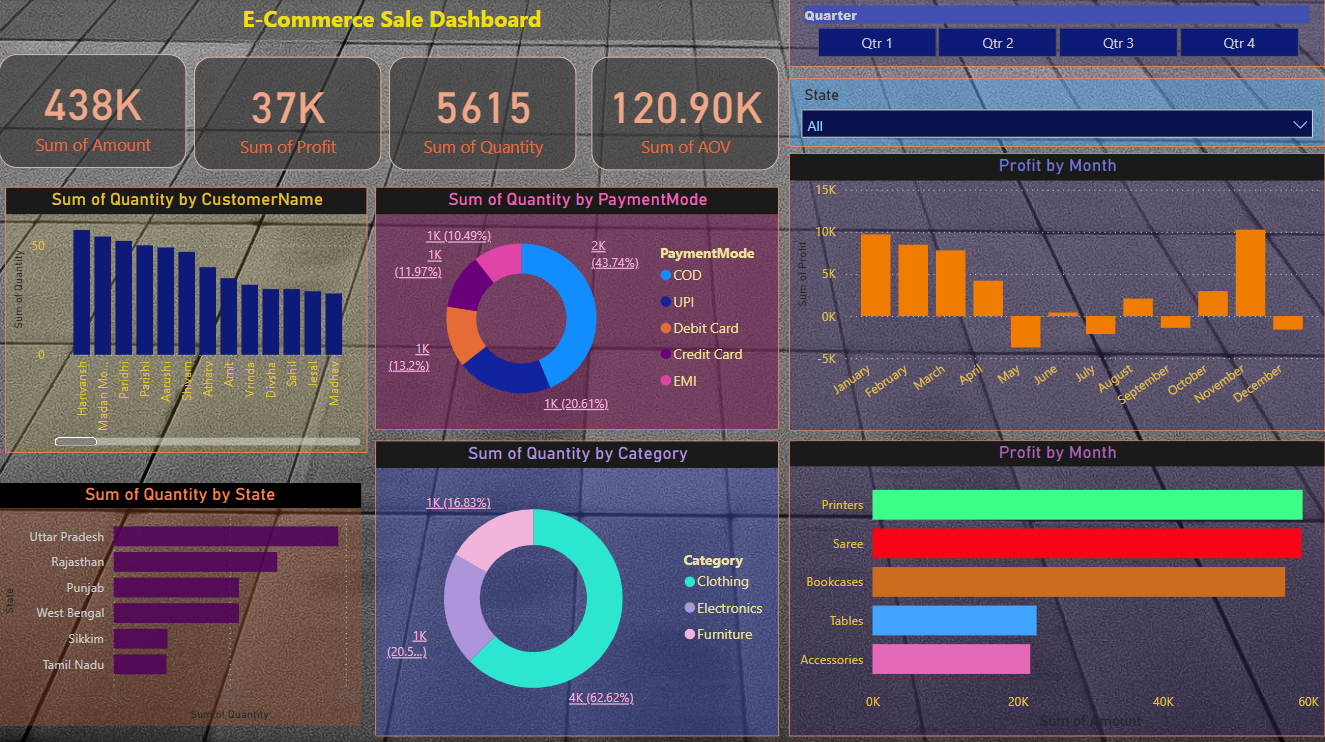

This screenshot's page, from the dashboard's own definition file:
{"tool":"powerbi","page":{"name":"Page 1","canvas":[1280,720],"ordinal":0},"visuals":[{"type":"textbox","box":[0,0,752.8,41],"z":0},{"type":"columnChart","title":"Profit by Month","fields":{"Category":["Orders.Order Date.Variation.Date Hierarchy.Month"],"Y":["Details.Profit"]},"box":[762.5,149.6,517.6,267.8],"z":1000},{"type":"barChart","title":"Profit by Month","fields":{"Category":["Details.Sub-Category"],"Y":["Details.Amount"]},"box":[763,426.8,517.3,285.4],"z":2000},{"type":"donutChart","fields":{"Category":["Details.Category"],"Y":["Details.Quantity"]},"box":[363.6,426.8,389.7,285.4],"z":3000},{"type":"donutChart","fields":{"Category":["Details.PaymentMode"],"Y":["Details.Quantity"]},"box":[363.6,182.5,389.7,234.6],"z":4000},{"type":"card","fields":{"Values":["Details.Amount"]},"box":[0,54.9,181,109.8],"z":5000},{"type":"card","fields":{"Values":["Details.Quantity"]},"box":[376,56.3,181.1,109.8],"z":6000},{"type":"card","fields":{"Values":["Details.AOV"]},"box":[572.2,56.3,181.1,109.8],"z":7000},{"type":"card","fields":{"Values":["Details.Profit"]},"box":[188,56.3,181.1,109.8],"z":8000},{"type":"clusteredColumnChart","fields":{"Category":["Orders.CustomerName"],"Y":["Details.Quantity"]},"box":[6,182.2,349.9,257],"z":8001},{"type":"barChart","fields":{"Category":["Orders.State"],"Y":["Details.Quantity"]},"box":[0,468.1,349.9,234],"z":8002},{"type":"slicer","fields":{"Values":["Orders.State"]},"box":[762.5,77.2,517.6,66.4],"z":8003},{"type":"slicer","fields":{"Values":["Orders.Order Date.Variation.Date Hierarchy.Quarter"]},"box":[762.5,0,517.6,66.4],"z":8004}]}

Visuals, with their boxes in screenshot pixels (x1, y1, x2, y2), scaled from the page's 1280x720 canvas onto the 1325x742 screenshot:
textbox: [x1=0, y1=0, x2=779, y2=42]
"Profit by Month" columnChart: [x1=789, y1=154, x2=1324, y2=430]
"Profit by Month" barChart: [x1=790, y1=440, x2=1324, y2=734]
donutChart - Details.Category x Details.Quantity: [x1=376, y1=440, x2=780, y2=734]
donutChart - Details.PaymentMode x Details.Quantity: [x1=376, y1=188, x2=780, y2=430]
card - Details.Amount: [x1=0, y1=57, x2=187, y2=170]
card - Details.Quantity: [x1=389, y1=58, x2=577, y2=171]
card - Details.AOV: [x1=592, y1=58, x2=780, y2=171]
card - Details.Profit: [x1=195, y1=58, x2=382, y2=171]
clusteredColumnChart - Orders.CustomerName x Details.Quantity: [x1=6, y1=188, x2=368, y2=453]
barChart - Orders.State x Details.Quantity: [x1=0, y1=482, x2=362, y2=724]
slicer - Orders.State: [x1=789, y1=80, x2=1324, y2=148]
slicer - Orders.Order Date.Variation.Date Hierarchy.Quarter: [x1=789, y1=0, x2=1324, y2=68]
